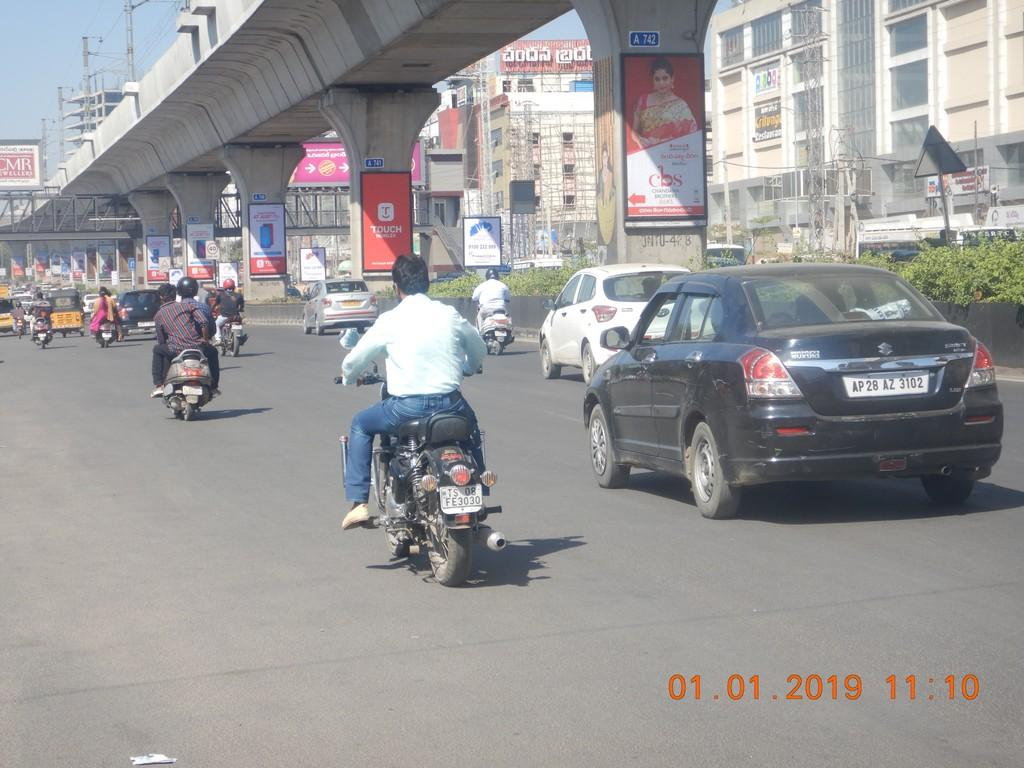plate: (441, 486, 482, 508)
